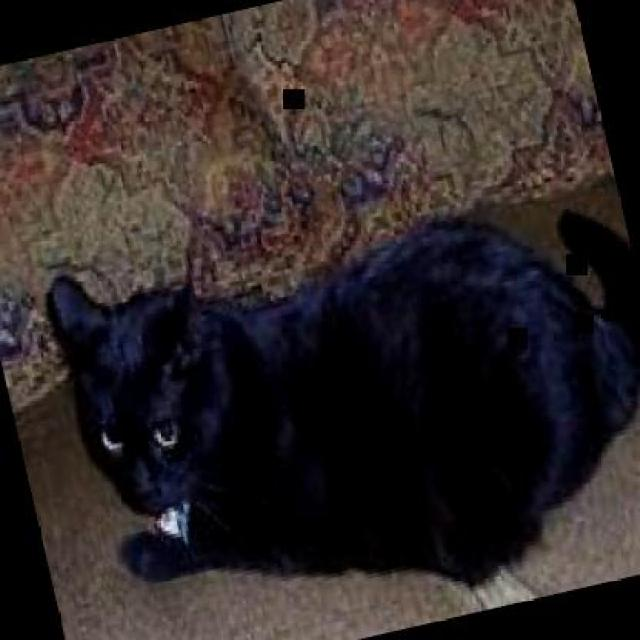cat: (39, 146, 638, 639)
